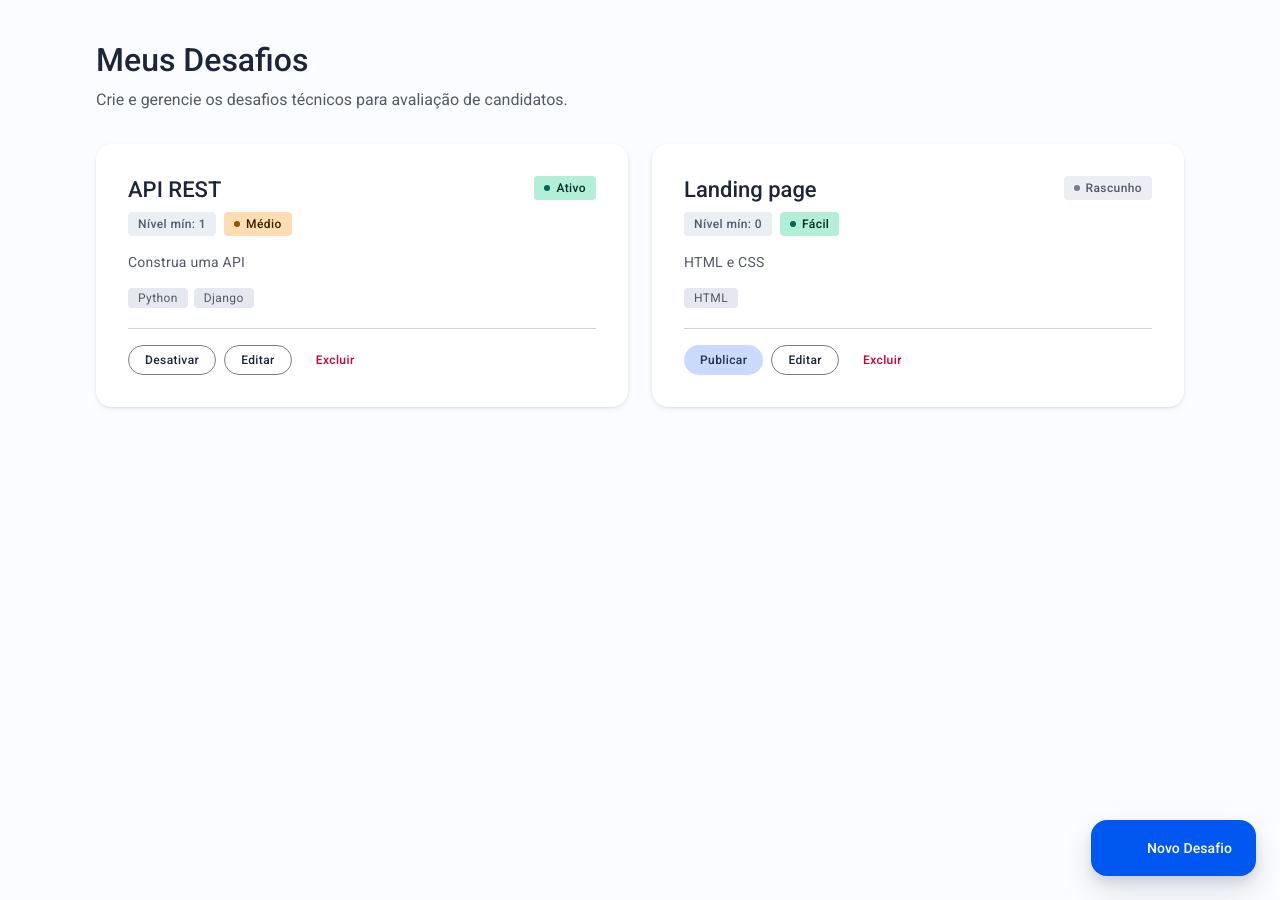
Scenario: CompanyChallenges › "Cancelar" fecha o formulário sem salvar
The width and height of the screenshot is (1280, 900).
Check: the heading "API REST" is shown, box [128,177,221,202]
What coordinates should you click on to do the following:
click the button "Novo Desafio"
I would click on:
 (1173, 848)
Its box is [1091,820,1256,876].
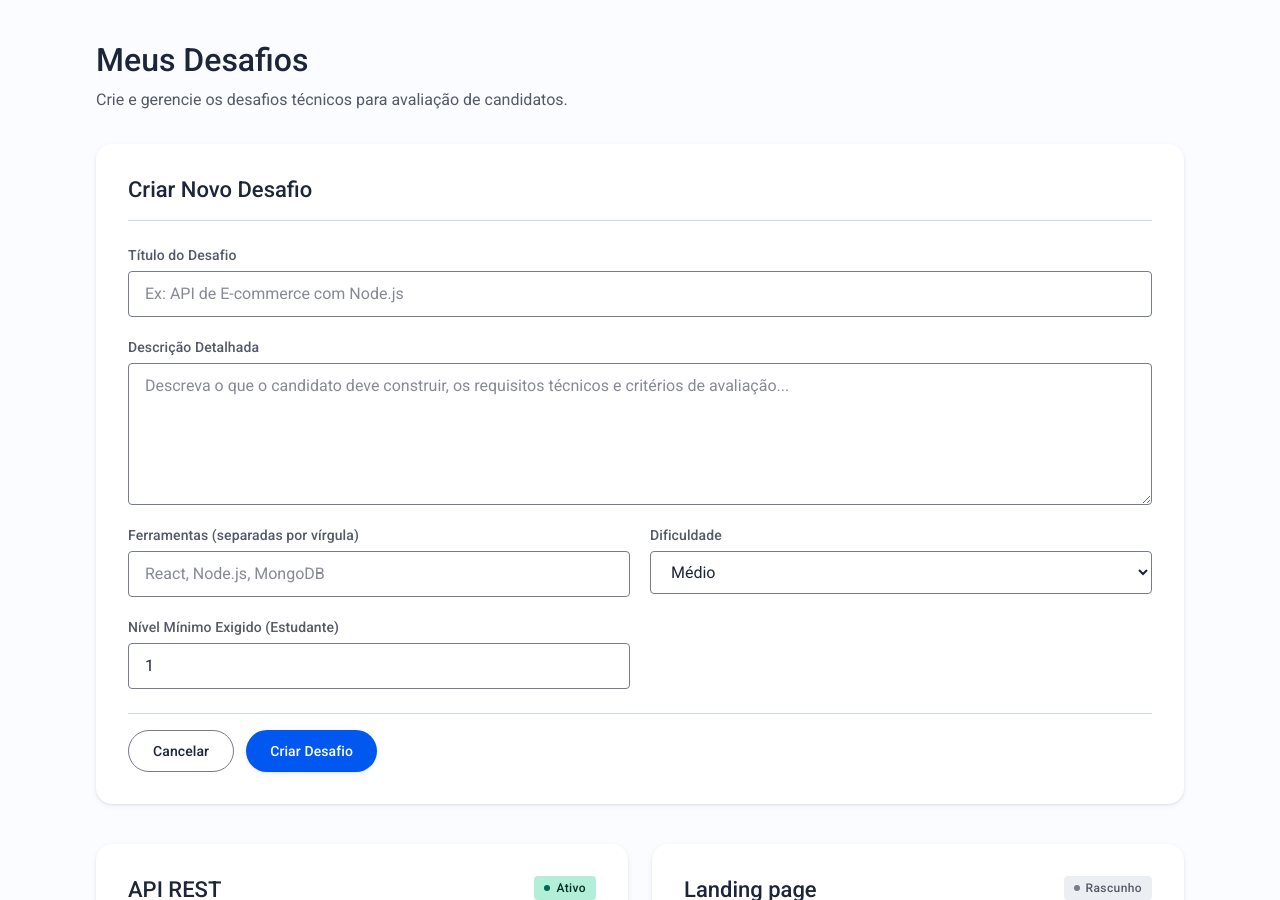
What coordinates should you click on to do the following:
click the button "Cancelar"
I would click on:
 (181, 751)
Its box is [128,730,234,772].
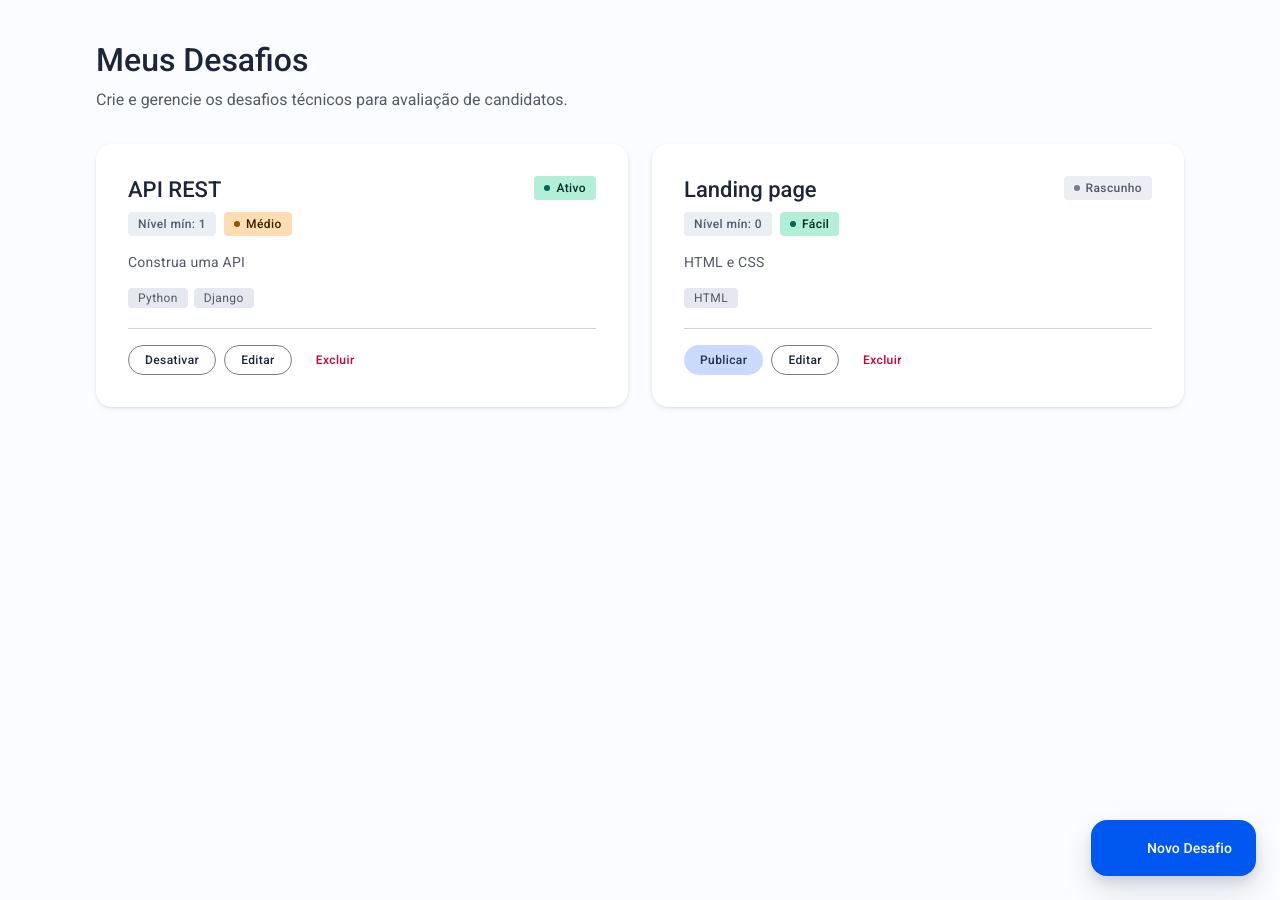
Check: the button "Criar Desafio" is gone
